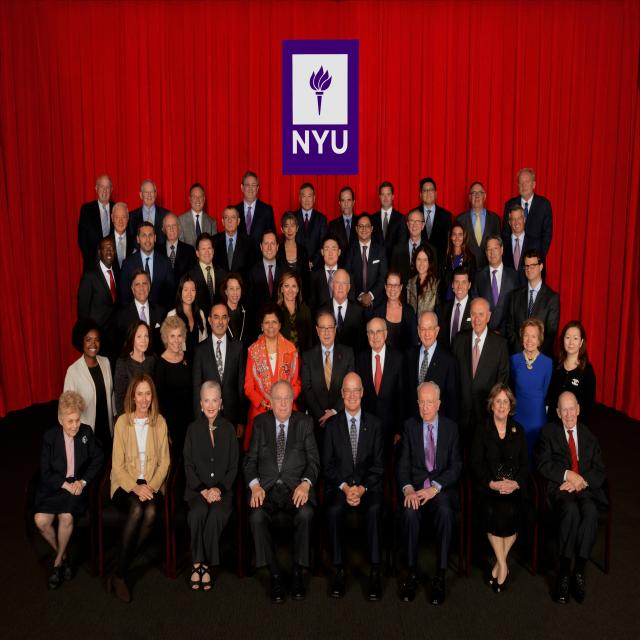body: (241, 378, 323, 604), (389, 376, 466, 608), (317, 369, 391, 606), (99, 370, 172, 606), (532, 389, 602, 608), (466, 379, 534, 599), (27, 388, 99, 595), (191, 298, 248, 531), (181, 377, 242, 594), (352, 313, 410, 532), (243, 304, 302, 453), (63, 314, 119, 468), (450, 296, 511, 436), (300, 308, 358, 452), (71, 236, 121, 390), (151, 314, 198, 459), (508, 317, 554, 450), (502, 168, 554, 283), (404, 307, 456, 418), (510, 248, 560, 363), (544, 321, 598, 425), (119, 219, 178, 314), (469, 233, 521, 339), (113, 318, 164, 421), (311, 267, 368, 359), (210, 204, 257, 307), (346, 212, 389, 322), (368, 267, 419, 358), (408, 177, 452, 281), (452, 181, 502, 272), (402, 243, 446, 346), (116, 268, 165, 357), (76, 174, 118, 272), (232, 170, 277, 261), (393, 208, 438, 298), (190, 232, 228, 338), (185, 231, 228, 322), (154, 210, 198, 294), (275, 209, 313, 306), (273, 268, 313, 359), (164, 273, 209, 352), (292, 182, 329, 276), (436, 265, 475, 354), (309, 232, 353, 308), (246, 229, 287, 310), (177, 182, 217, 264), (437, 220, 477, 300), (128, 180, 171, 250), (327, 185, 359, 270), (501, 204, 534, 284), (219, 271, 253, 347), (102, 202, 138, 271), (368, 180, 408, 240)
